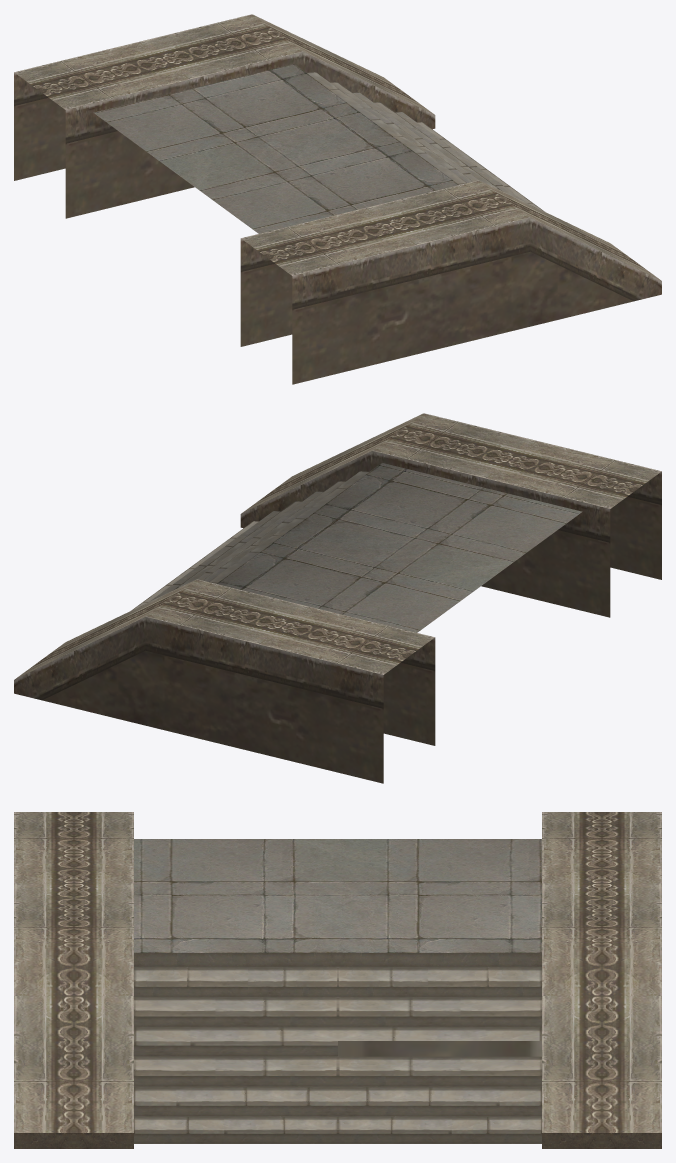
Rendered from zc_zhanchang001_taijie01_55_49_3632out.fbx.
3 renders of one model, top to bottom at view 1: azimuth 30°, elevation 25°; view 2: azimuth 150°, elevation 25°; view 3: azimuth 270°, elevation 25°, orthographic. The views are drawn at different scales.
Parts seen in each view (by area): view 1: 0002_zc_zhanchang001_taijie01, 0001_zc_zhanchang001_taijie01, 0000_zc_zhanchang001_taijie01; view 2: 0002_zc_zhanchang001_taijie01, 0001_zc_zhanchang001_taijie01, 0000_zc_zhanchang001_taijie01; view 3: 0002_zc_zhanchang001_taijie01, 0000_zc_zhanchang001_taijie01, 0001_zc_zhanchang001_taijie01.
Part boxes in pixels (box(x1,y1,x2,y2)): 0002_zc_zhanchang001_taijie01: box(14, 14, 661, 384); 0001_zc_zhanchang001_taijie01: box(93, 64, 458, 233); 0000_zc_zhanchang001_taijie01: box(306, 72, 544, 211); 0002_zc_zhanchang001_taijie01: box(14, 413, 661, 783); 0001_zc_zhanchang001_taijie01: box(217, 463, 582, 632); 0000_zc_zhanchang001_taijie01: box(131, 471, 369, 610); 0002_zc_zhanchang001_taijie01: box(14, 812, 661, 1148); 0000_zc_zhanchang001_taijie01: box(134, 953, 541, 1143); 0001_zc_zhanchang001_taijie01: box(134, 839, 541, 952).
Bounding box in the file's own units: 7.79 × 2.19 × 10.15.
